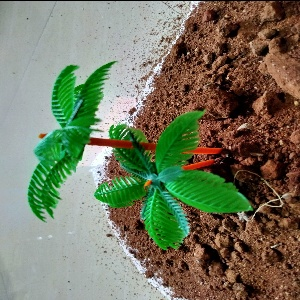plant: (25, 61, 252, 254)
